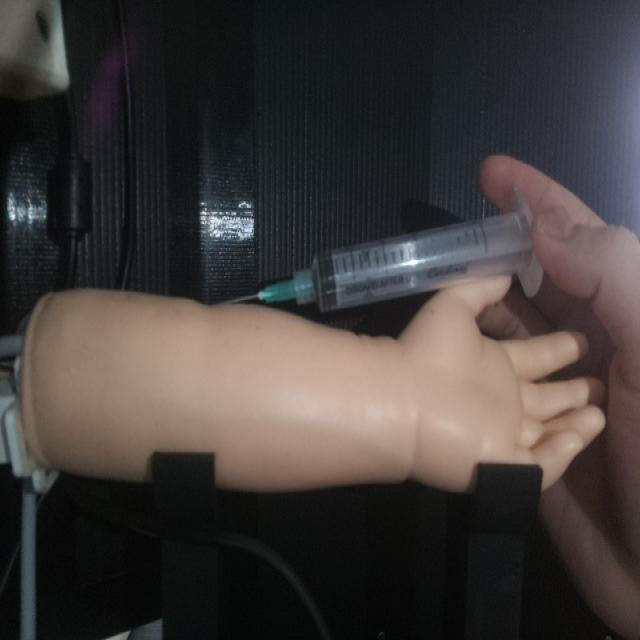Outside: (234, 185, 546, 315)
